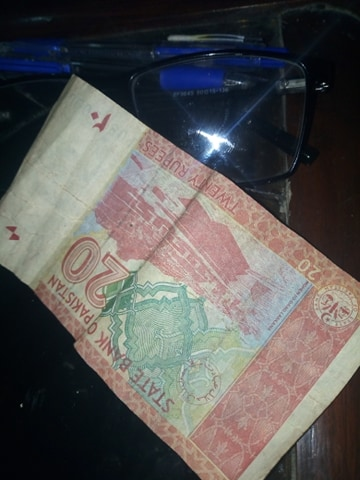20 rupee: (9, 58, 358, 466)
